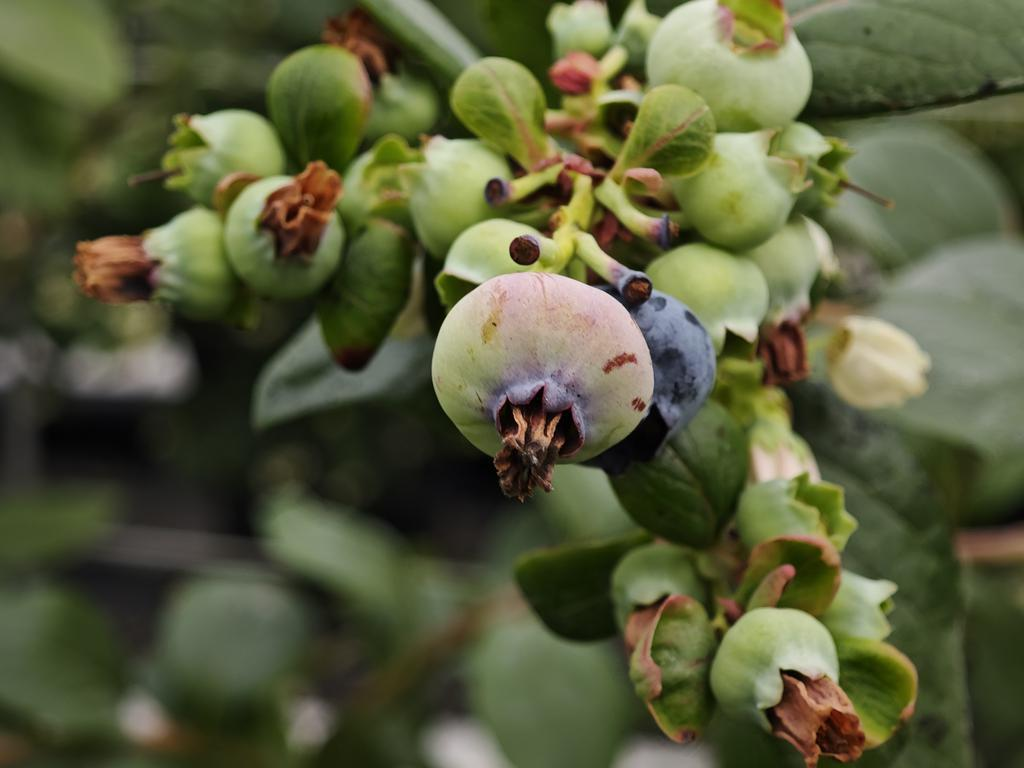RipeBlueBerry: (594, 275, 718, 449)
UnripeBlueBerry: (428, 269, 657, 468), (646, 0, 809, 131), (709, 605, 841, 738)
